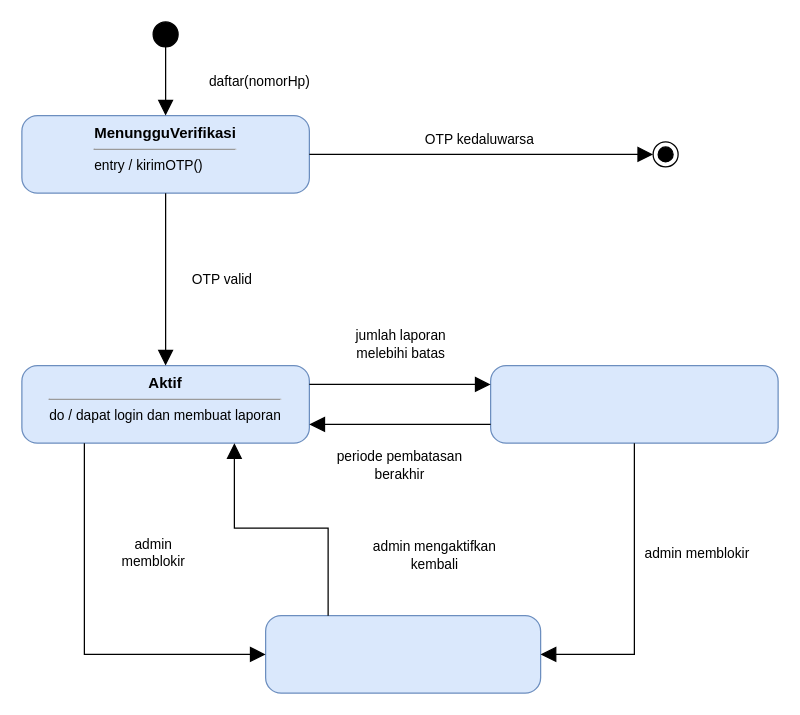
Some shapes in this 800 by 715 pixel diagram are drawn without their labels. The centre of each missing label's shape, as x and y in pixels:
"Dibatasi do / tidak dapat membuat laporan baru" goes at point 633,403.
"Diblokir do / tidak dapat login" goes at point 402,653.
